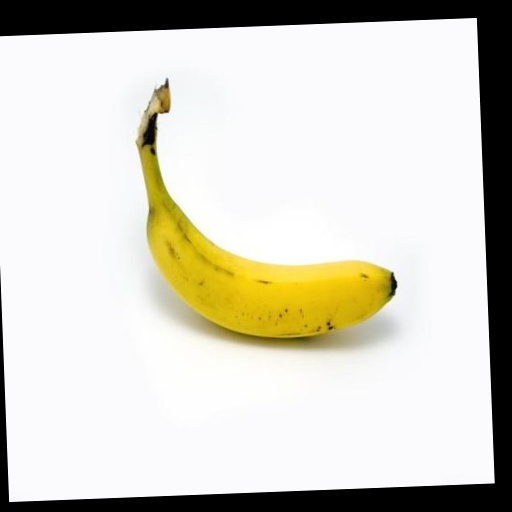fruit: (136, 81, 395, 337)
